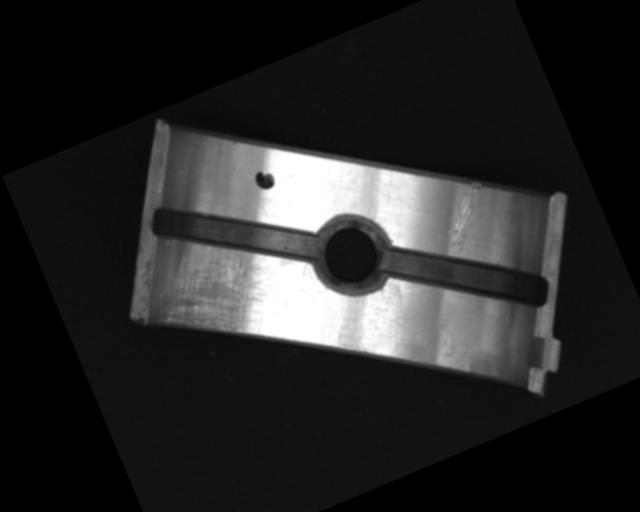blot: (251, 166, 277, 192)
bruise: (435, 334, 459, 361)
gap: (378, 198, 556, 356), (146, 159, 322, 311)
hole: (302, 204, 404, 307)
nick: (430, 178, 501, 255)
scratch: (136, 211, 313, 372)
